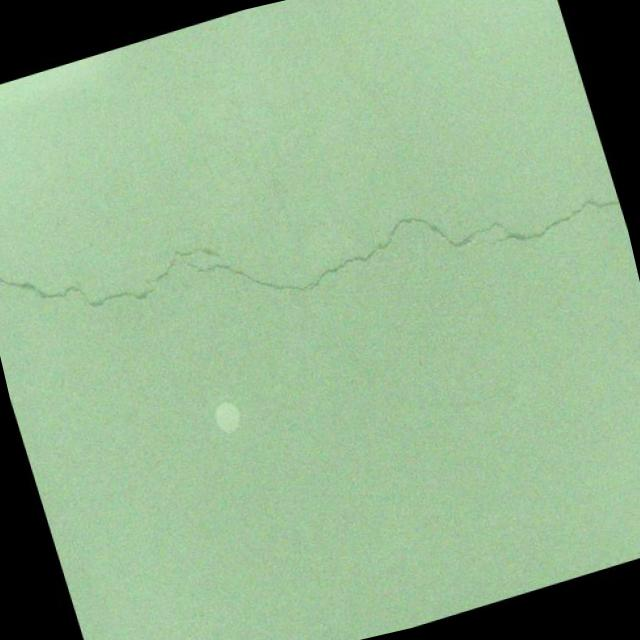crack: (0, 75, 631, 400)
